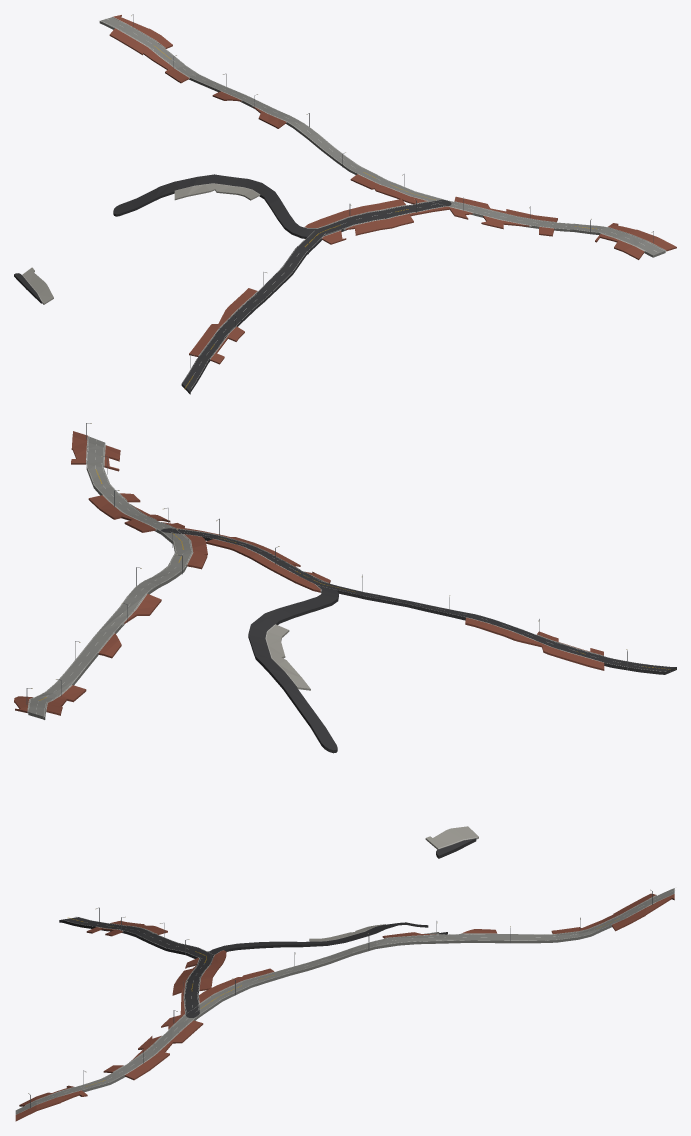
3 renders of one model, top to bottom at view 1: azimuth 30°, elevation 25°; view 2: azimuth 150°, elevation 25°; view 3: azimuth 270°, elevation 25°, orthographic. The views are drawn at different scales.
Bounding box in the file's own units: 264 × 80.71 × 293.
